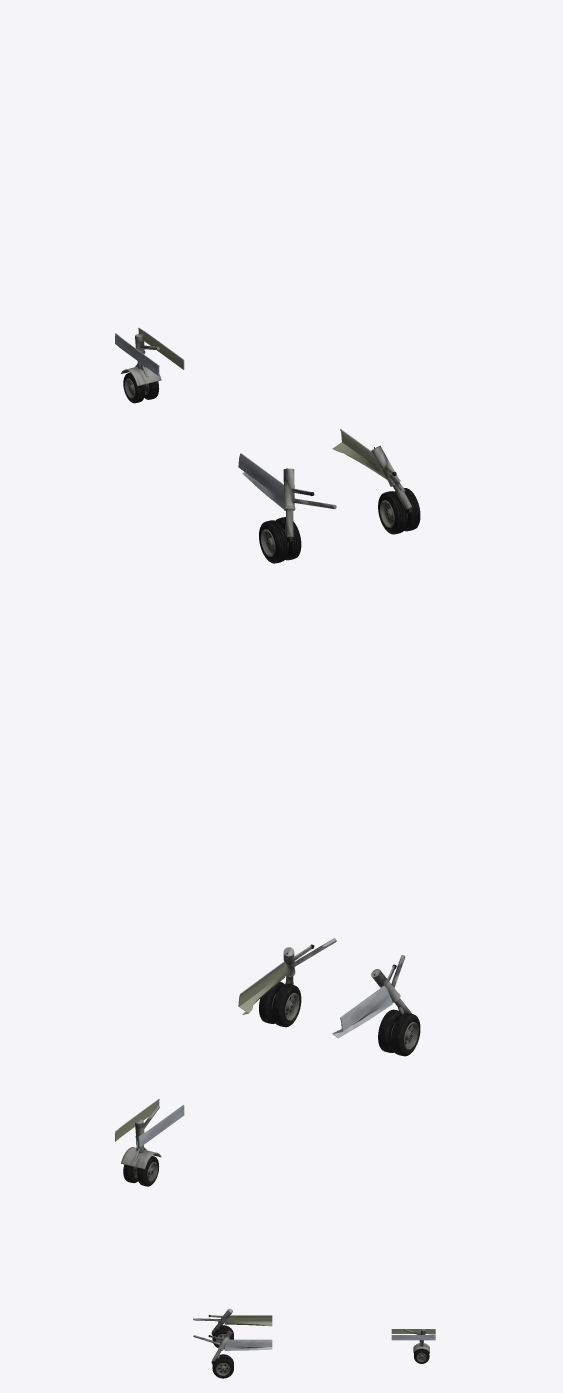
Rendered from e_su24_gear.glb.
3 renders of one model, top to bottom at view 1: azimuth 30°, elevation 25°; view 2: azimuth 150°, elevation 25°; view 3: azimuth 270°, elevation 25°, orthographic. The views are drawn at different scales.
Parts seen in each view (by area): view 1: body|SU_paint; view 2: body|SU_paint; view 3: body|SU_paint.
Boxes of the visible parts, <box> form: body|SU_paint: <box>115,327,420,563</box>; body|SU_paint: <box>115,938,420,1186</box>; body|SU_paint: <box>193,1308,435,1378</box>.
Size of the model in its own units: 3.52 by 6.83 by 22.63.
1 material, 1 textured.
